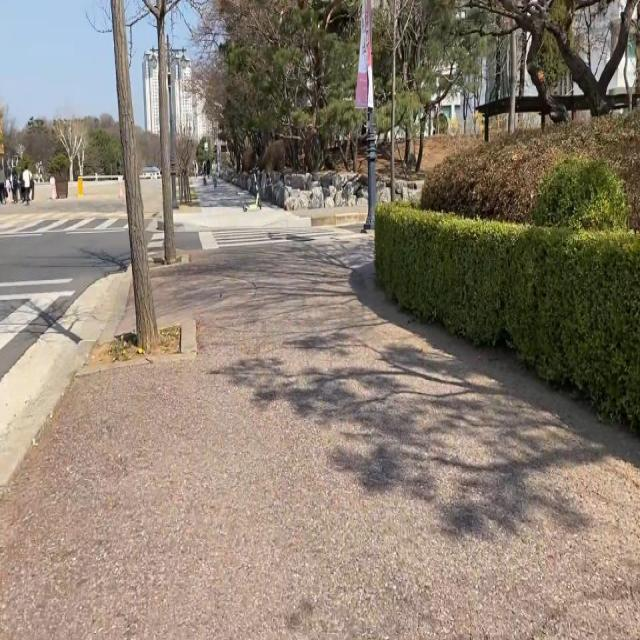sidewalk: (0, 236, 640, 638)
